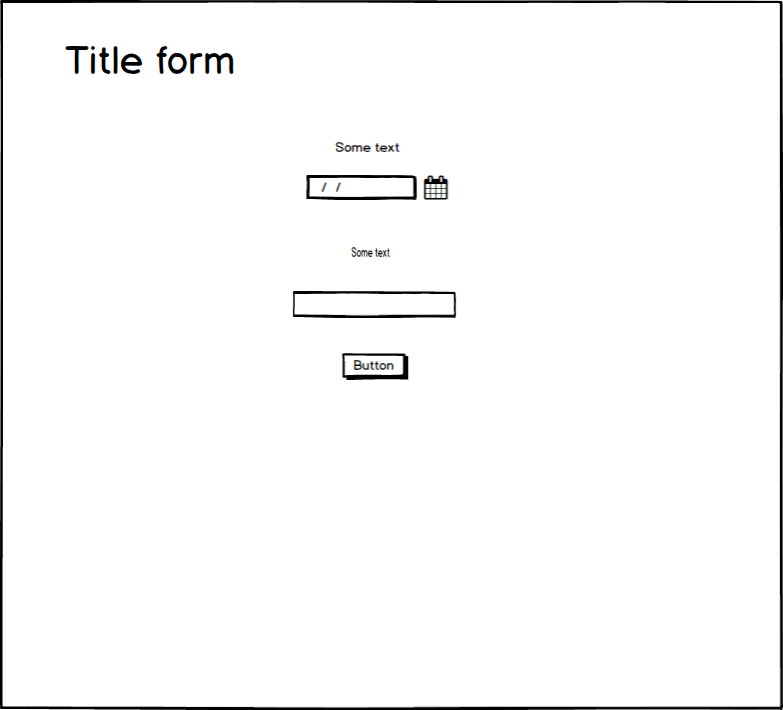button: (336, 348, 410, 379)
date_picker: (302, 169, 461, 204)
h1: (62, 34, 237, 84)
input: (288, 287, 461, 319)
label: (340, 237, 415, 264), (326, 133, 404, 157)
